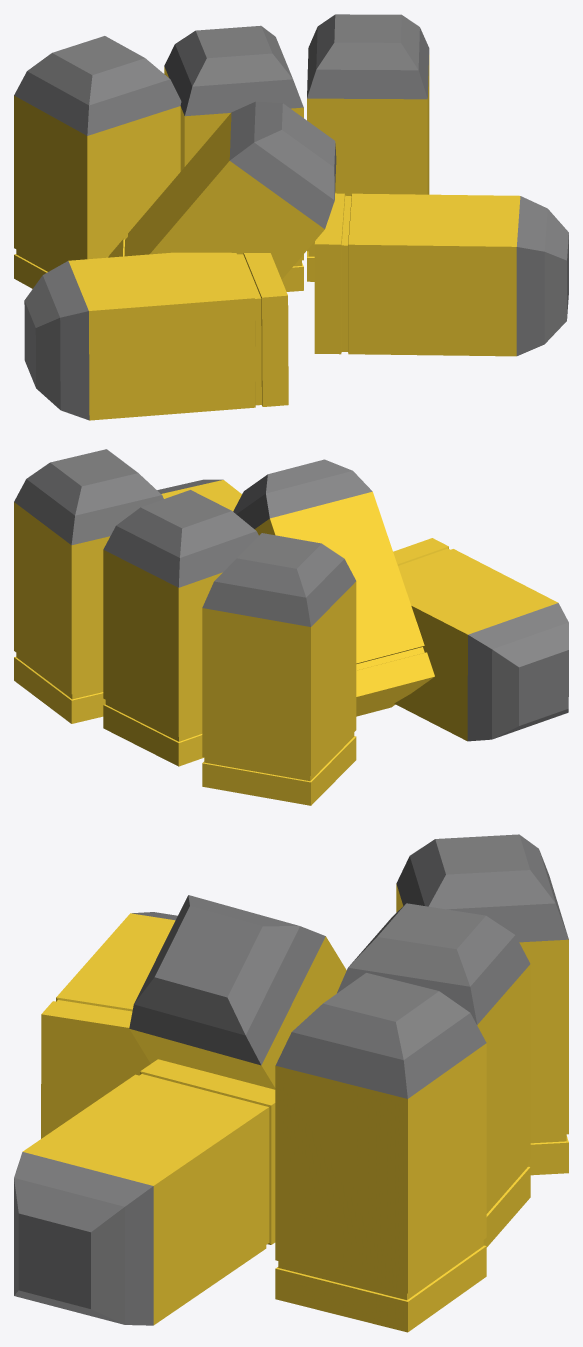
The model's file is small-bullet.fbx.
3 views of the same model, one above another, from view 1: azimuth 30°, elevation 25°; view 2: azimuth 150°, elevation 25°; view 3: azimuth 270°, elevation 25° (orthographic). The views are drawn at different scales.
Parts seen in each view (by area): view 1: Small Bullets; view 2: Small Bullets; view 3: Small Bullets.
Boxes of the visible parts, x1,y1,x2,y2 form: Small Bullets: (14,14,568,420); Small Bullets: (14,449,568,805); Small Bullets: (14,834,568,1332).
Size of the model in its own units: 62.19 by 28.84 by 47.22.
1 material, 1 textured.
